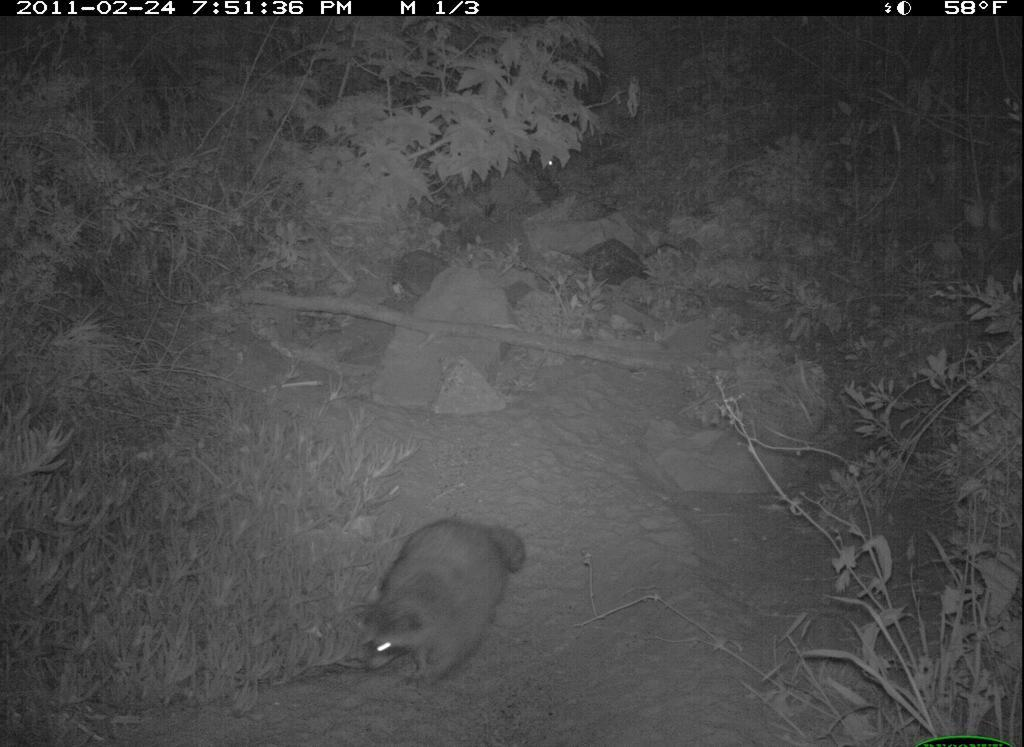raccoon: (354, 514, 534, 697)
